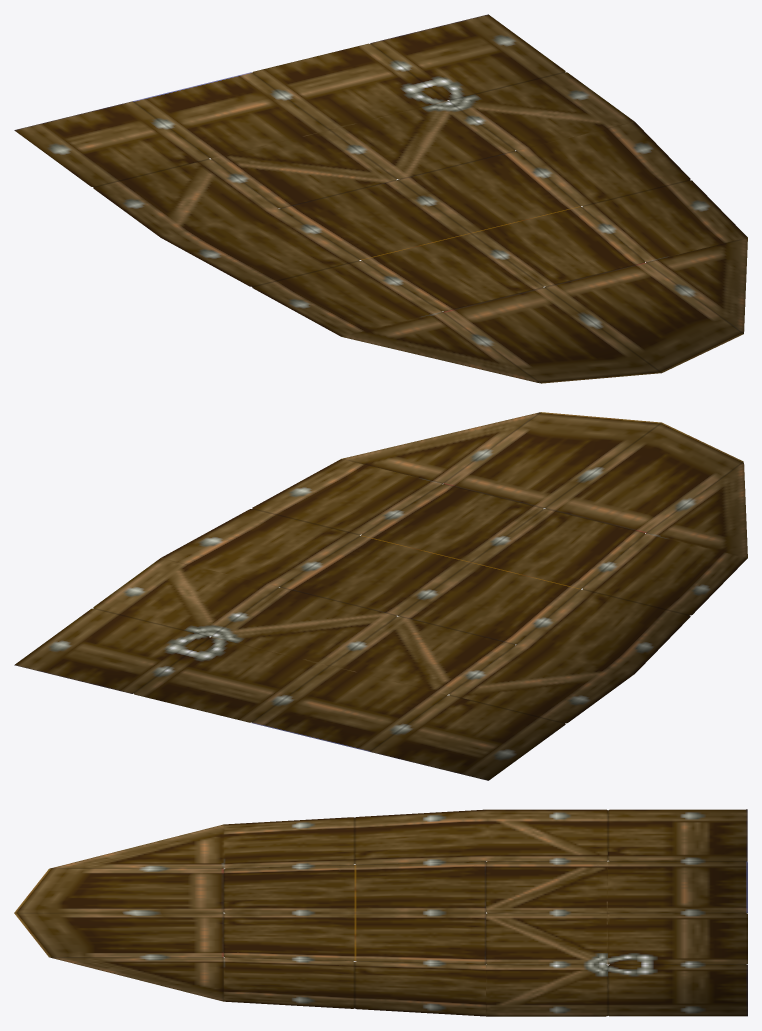
3 views of the same model, one above another, from view 1: azimuth 30°, elevation 25°; view 2: azimuth 150°, elevation 25°; view 3: azimuth 270°, elevation 25° (orthographic). The views are drawn at different scales.
Parts seen in each view (by area): view 1: T1L5M008_7; view 2: T1L5M008_7; view 3: T1L5M008_7.
Boxes of the visible parts, x1,y1,x2,y2 form: T1L5M008_7: (14, 14, 747, 383); T1L5M008_7: (14, 412, 747, 780); T1L5M008_7: (14, 809, 747, 1016).
Size of the model in its own units: 2.8 by 0.000977 by 4.2.
